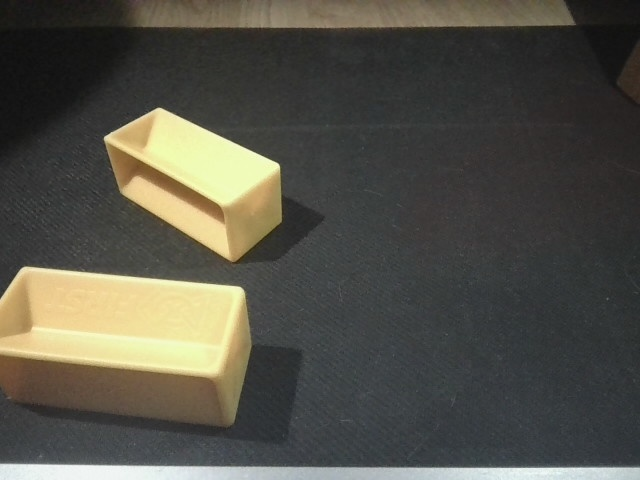YellowSample: (1, 265, 254, 429), (101, 105, 285, 264)
